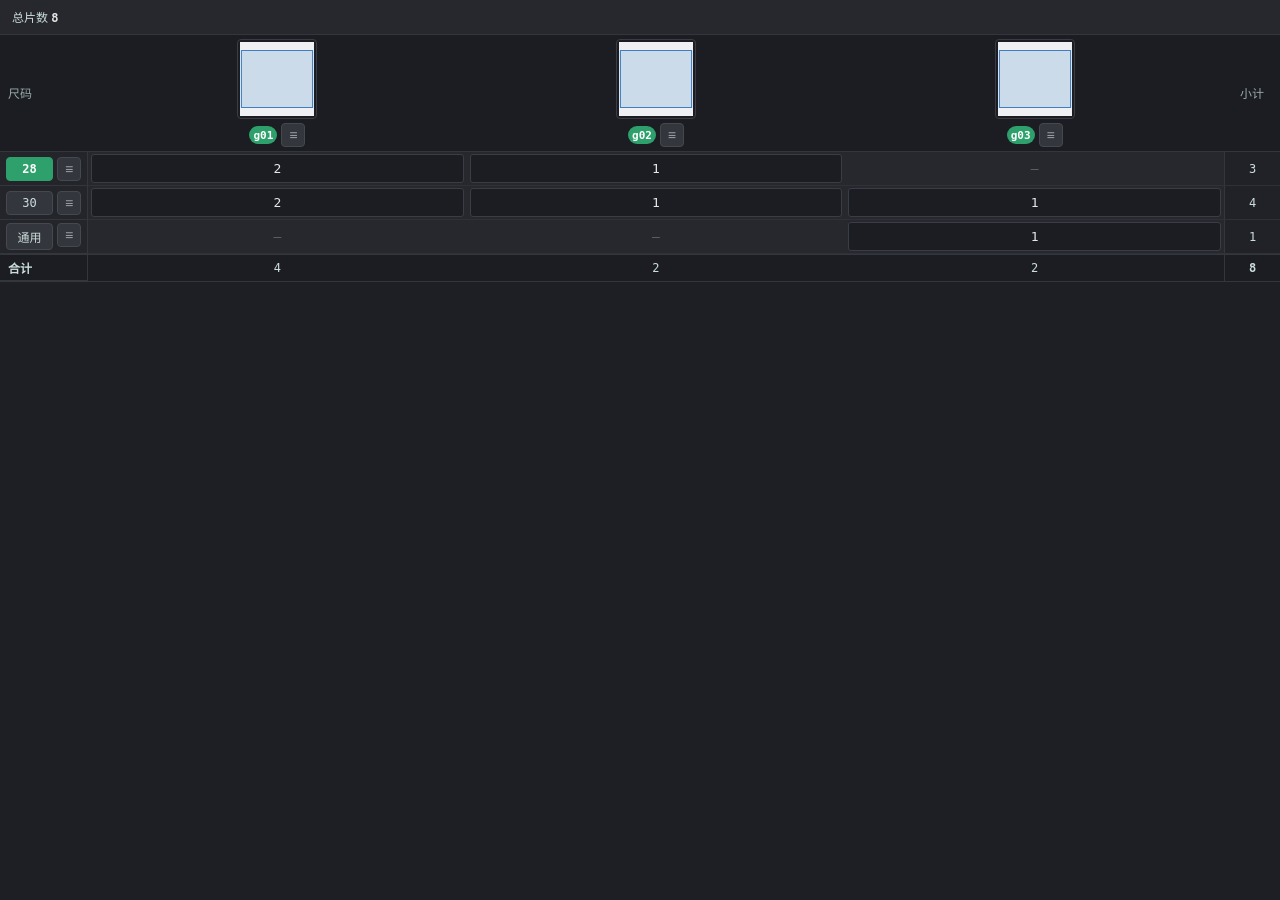
QtyMatrix (US-002 转置) 列级整列设值（工具条整表重置已拆） › 点 icon 开弹层：输入初值 = 当前列基准 baseValue
Click the button with test id "qty-rowfill-g01" at (293, 135), box [281,123,305,147]
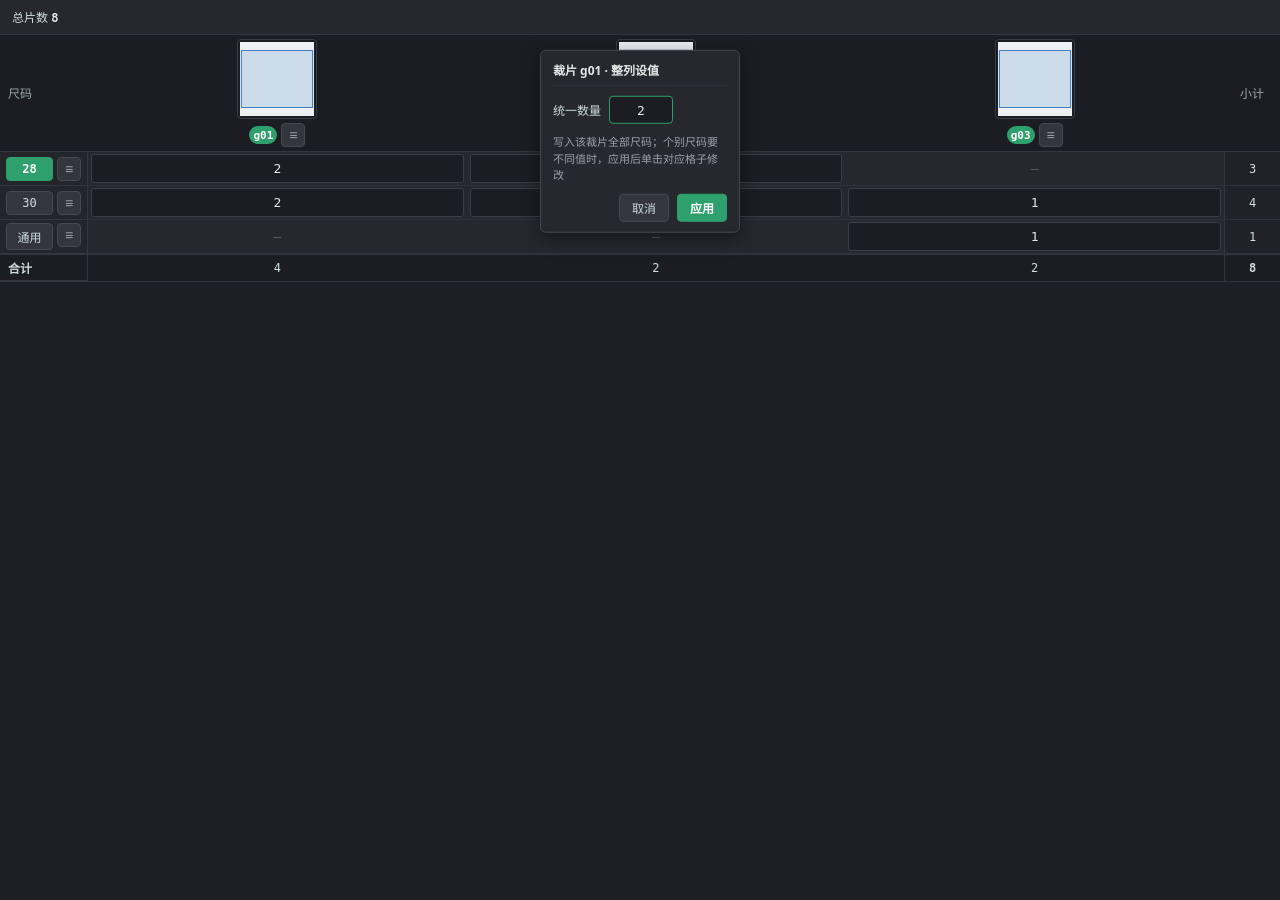
Check: the number field with test id "qty-fill-input" holds "2", box [609,96,673,124]
